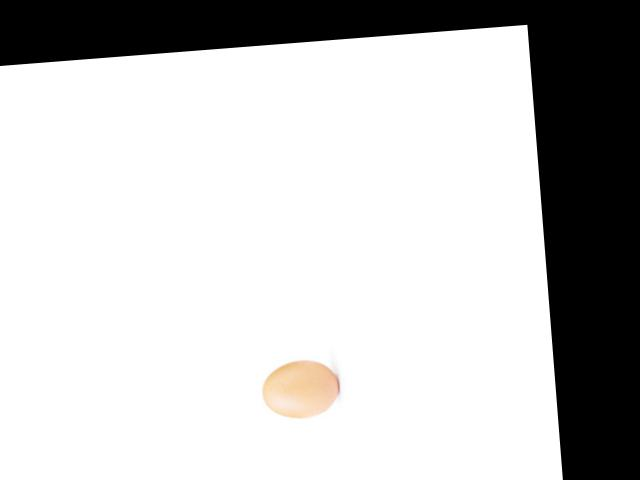egg: (260, 357, 340, 420)
